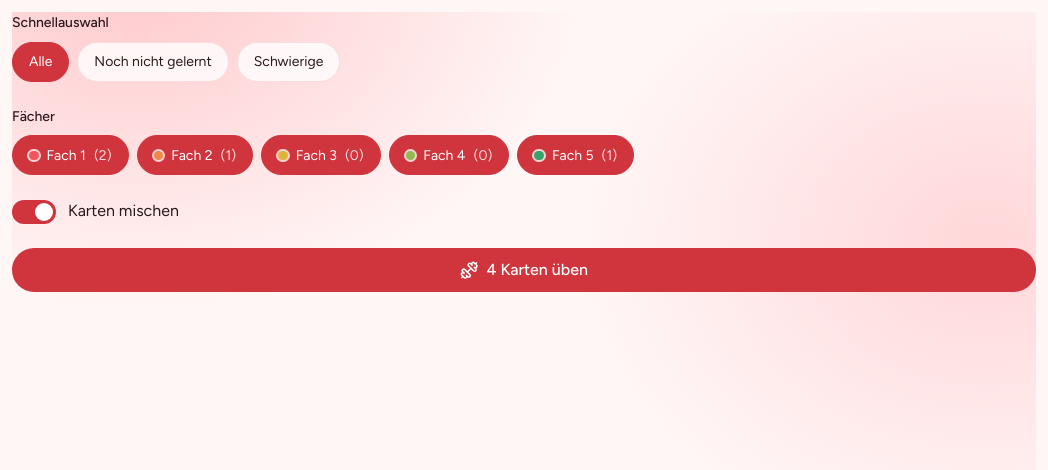
Test: BoxFilter › quick pick 'Schwierige' selects boxes 1 and 2
Click the button "Schwierige". click: (288, 62)
box: [237, 42, 340, 82]
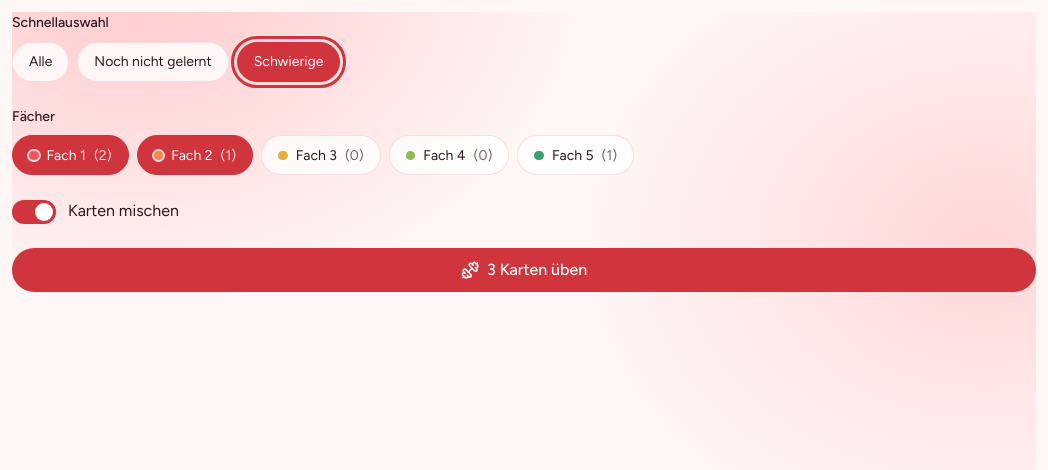
Expected: the checkbox labelled "Fach 1 (2)" is checked, [12, 135, 129, 175]
Now the checkbox labelled "Fach 5 (1)" is not checked, box [517, 135, 634, 175]
Now the button "3 Karten üben" is shown, box [12, 248, 1036, 292]
